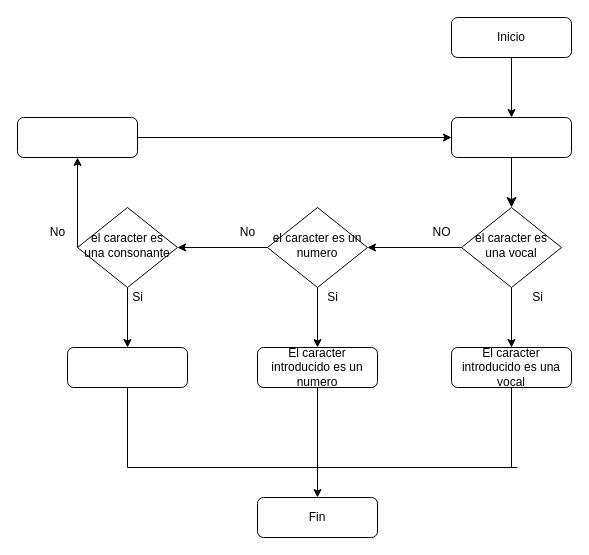
The diagram is 589 pixels wide and 555 high, and some of its shapes have lost their labels. The centre of each missing label's shape, as x and y in pixels:
"El caracter introducido es una consonante" goes at (x=127, y=367).
"Escribe el caracter" goes at (x=511, y=137).
"Vuelve a introducir el caracter" goes at (x=77, y=137).
